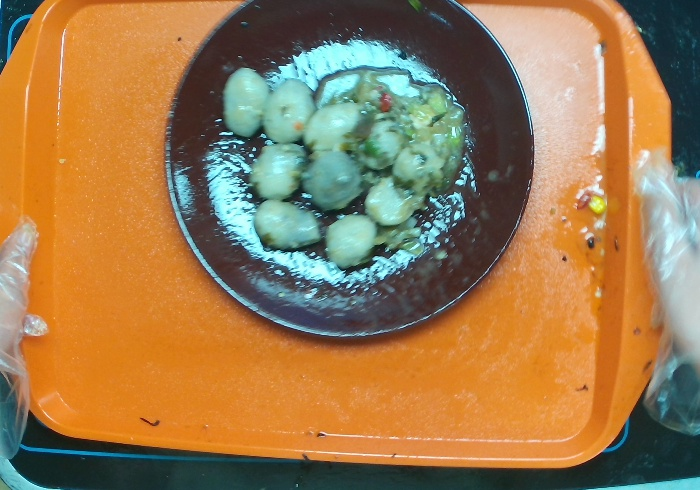HZYJPL-Ka_Fei_Yuan_Pan: (155, 1, 542, 350)
